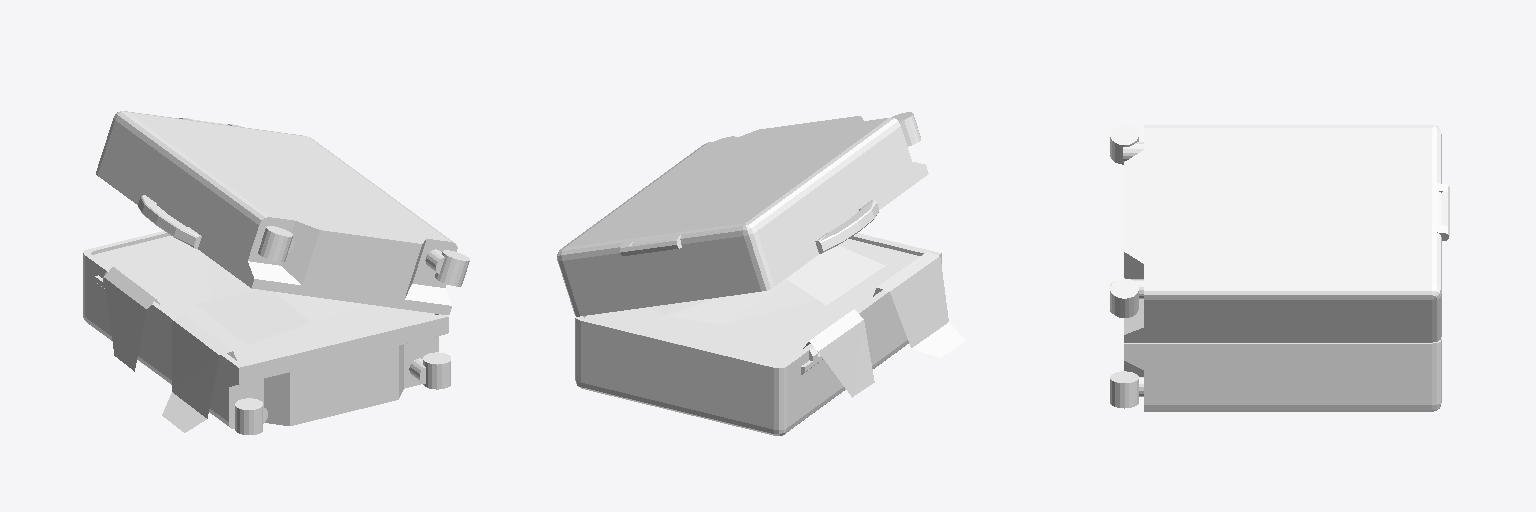
Rendered from Chemodan1_open.obj.
3 views of the same model, side by side, from view 1: azimuth 30°, elevation 25°; view 2: azimuth 150°, elevation 25°; view 3: azimuth 270°, elevation 25° (orthographic).
Parts seen in each view (by area): view 1: Object004; view 2: Object004; view 3: Object004.
Part boxes in pixels (bbox=[...]): Object004: bbox=[83, 111, 469, 434]; Object004: bbox=[557, 112, 965, 435]; Object004: bbox=[1110, 125, 1449, 411].
Size of the model in its own units: 780 by 568 by 852.